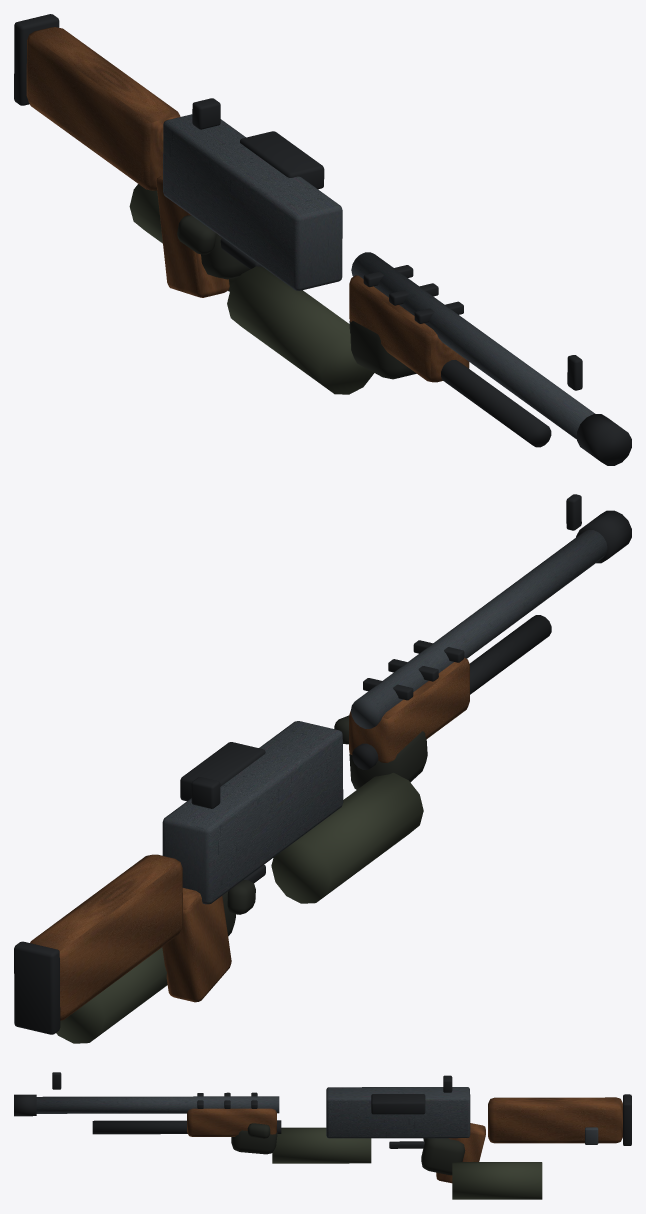
The model's file is weapon_mp153.glb.
3 renders of one model, top to bottom at view 1: azimuth 30°, elevation 25°; view 2: azimuth 150°, elevation 25°; view 3: azimuth 270°, elevation 25°, orthographic. The views are drawn at different scales.
Visible parts, largest first — view 1: WeaponMesh; view 2: WeaponMesh; view 3: WeaponMesh.
Boxes of the visible parts, left/top/right/bottom form: WeaponMesh: left=14, top=14, right=631, bottom=465; WeaponMesh: left=14, top=494, right=631, bottom=1043; WeaponMesh: left=14, top=1072, right=631, bottom=1199.
Bounding box in the file's own units: 0.1707 × 0.2824 × 1.38.
5 materials, 2 textured.
